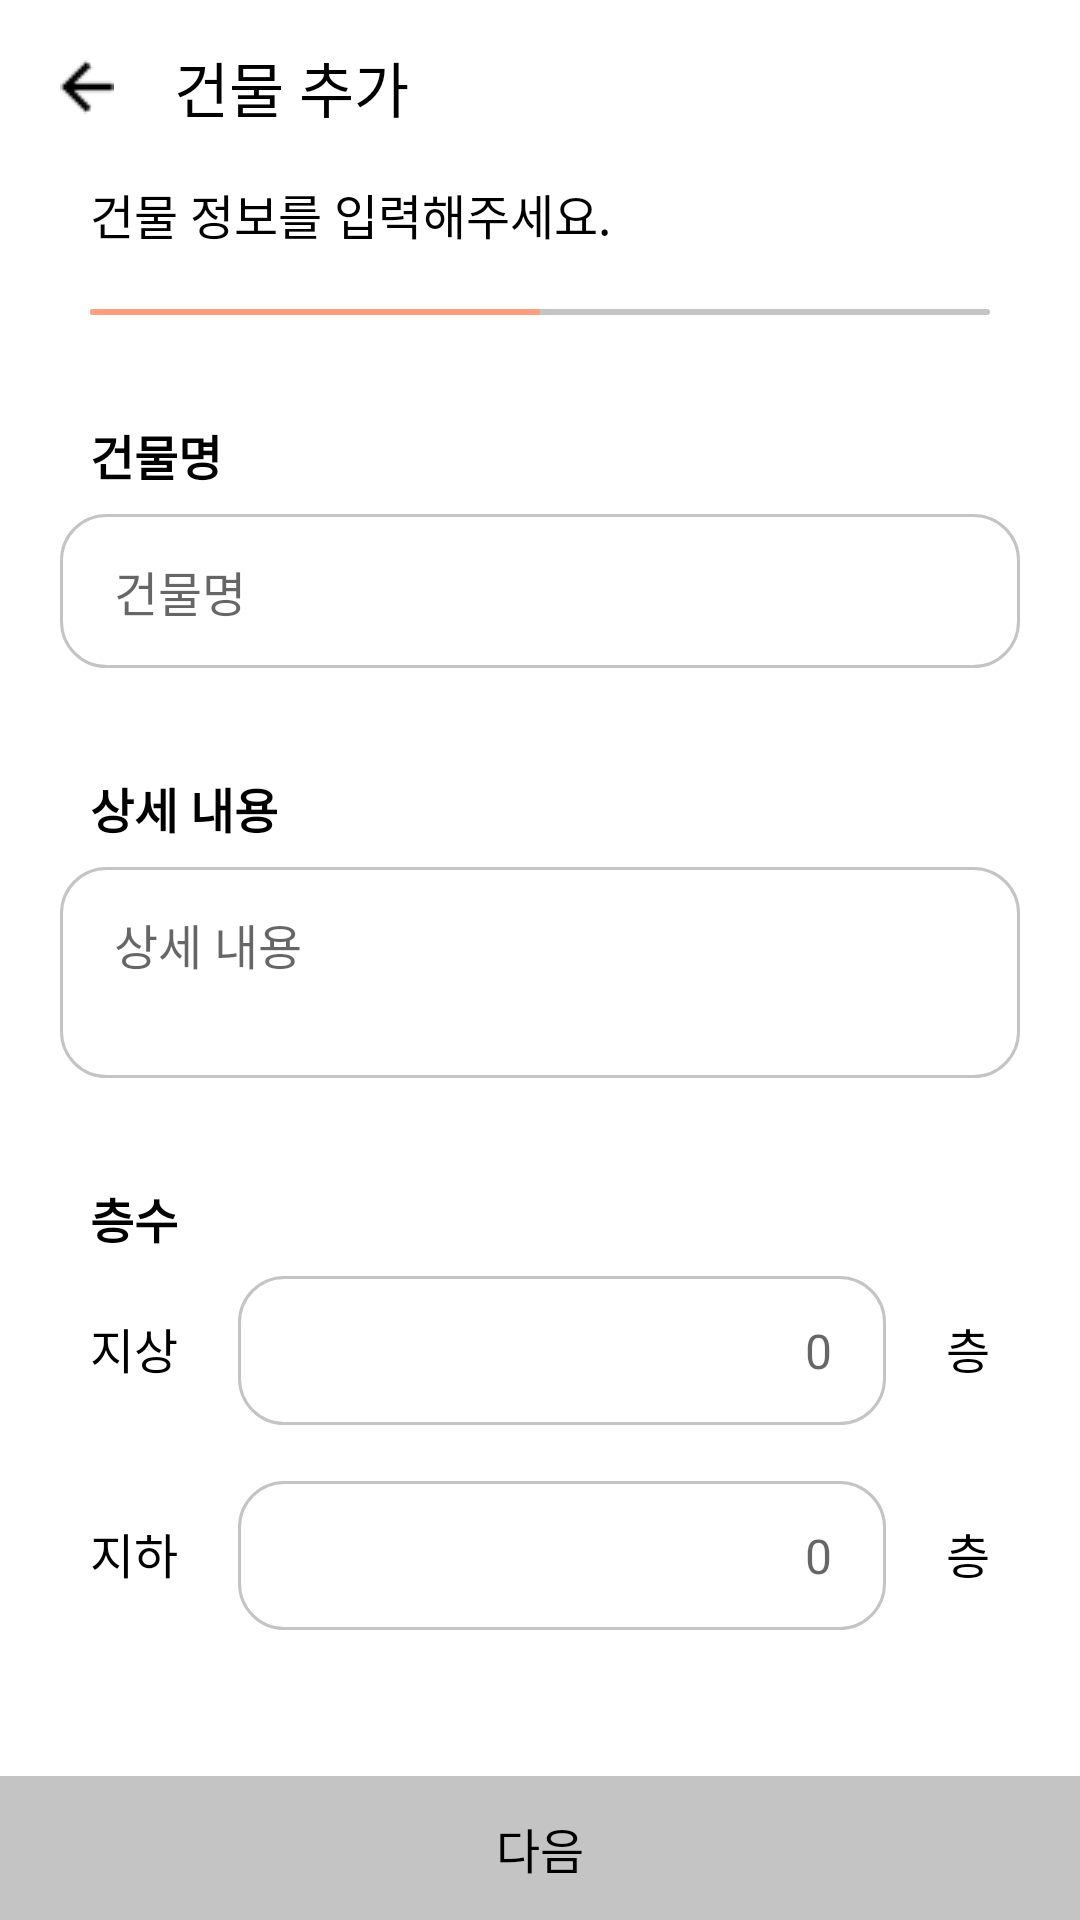

Where icons sit on this 1080 × 1920 app screen, as (x1, y1, x2, y2):
뒤로가기 버튼: (60, 60, 114, 114)
